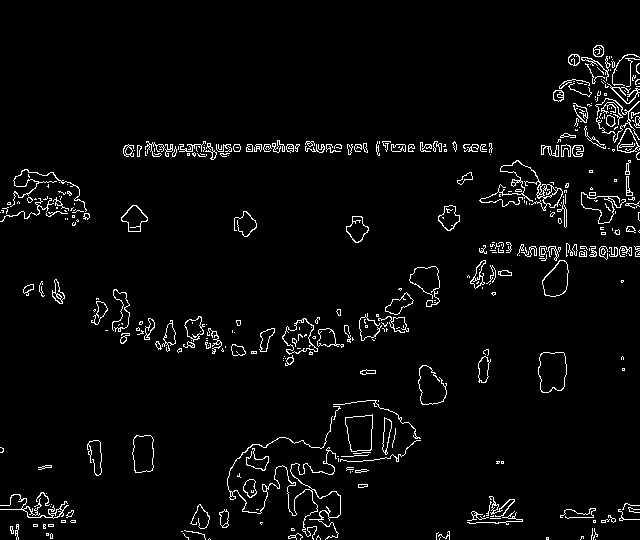rune_box: (85, 179, 496, 275)
